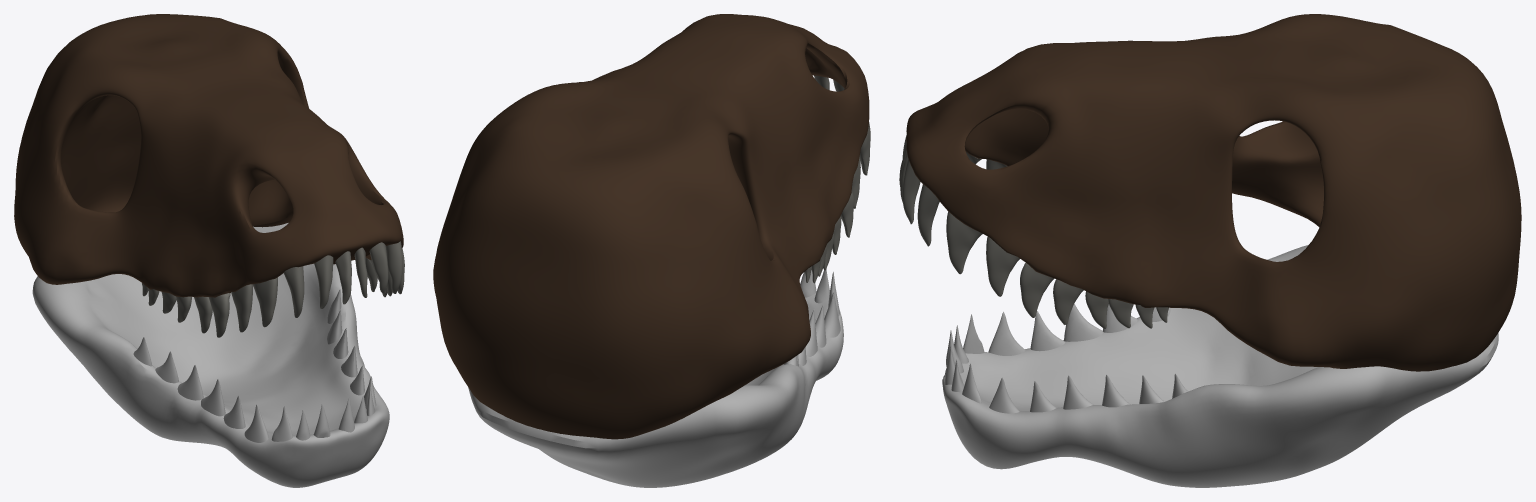
File: Dino Skull.fbx
The picture shows the model from 3 angles, left to right: view 1: azimuth 30°, elevation 25°; view 2: azimuth 150°, elevation 25°; view 3: azimuth 270°, elevation 25°; orthographic projection. The views are drawn at different scales.
Parts seen in each view (by area): view 1: Craneo_arriba, Craneo_abajo, Dientesd_arriba, Dientes_abajo; view 2: Craneo_arriba, Craneo_abajo, Dientes_abajo, Dientesd_arriba; view 3: Craneo_arriba, Craneo_abajo, Dientesd_arriba, Dientes_abajo.
Boxes of the visible parts, <box> form: Craneo_arriba: <box>14,14,403,297</box>; Craneo_abajo: <box>32,223,389,487</box>; Dientesd_arriba: <box>142,241,404,337</box>; Dientes_abajo: <box>133,289,376,442</box>; Craneo_arriba: <box>433,14,869,439</box>; Craneo_abajo: <box>468,293,843,487</box>; Dientes_abajo: <box>783,269,840,366</box>; Dientesd_arriba: <box>804,75,870,283</box>; Craneo_arriba: <box>906,14,1521,371</box>; Craneo_abajo: <box>942,245,1498,487</box>; Dientesd_arriba: <box>899,134,1168,328</box>; Dientes_abajo: <box>944,303,1187,413</box>.
Size of the model in its own units: 0.9839 by 1.05 by 1.45.
